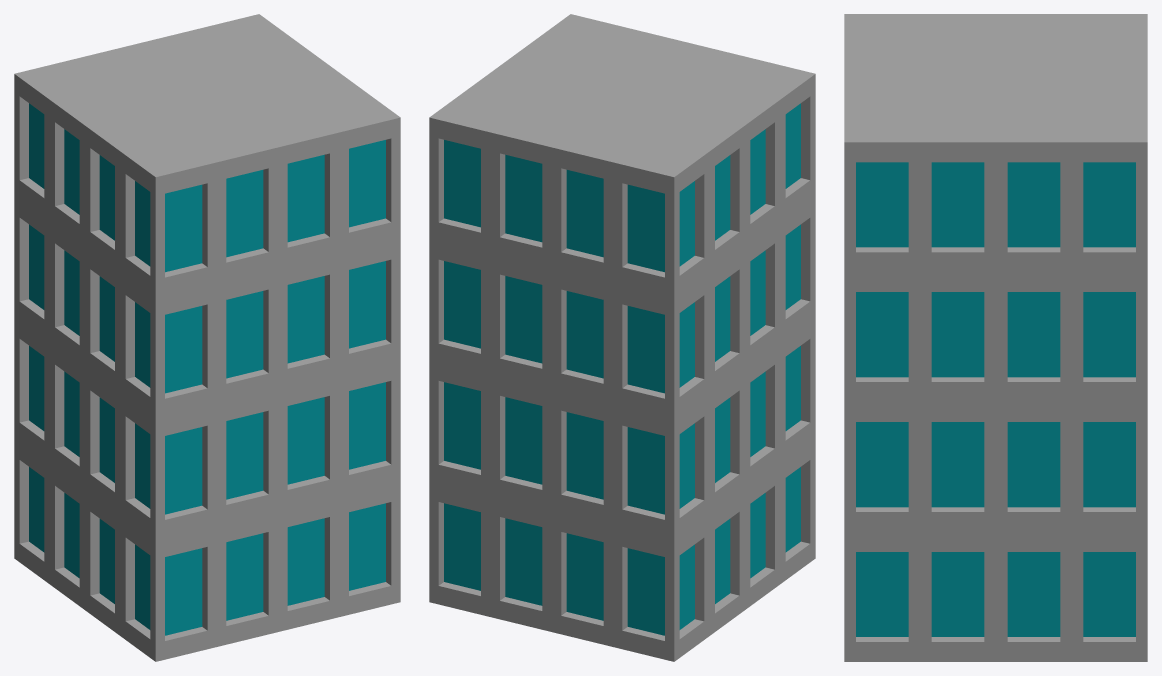
File: building.fbx
The picture shows the model from 3 angles, left to right: view 1: azimuth 30°, elevation 25°; view 2: azimuth 150°, elevation 25°; view 3: azimuth 270°, elevation 25°; orthographic projection. The views are drawn at different scales.
Visible parts, largest first — view 1: pCube1; view 2: pCube1; view 3: pCube1.
Part boxes in pixels (x1,y1,x2,y2): pCube1: (14, 14, 400, 661); pCube1: (429, 14, 815, 661); pCube1: (844, 14, 1147, 661).
Bounding box in the file's own units: 7.34 × 13.87 × 7.34.
